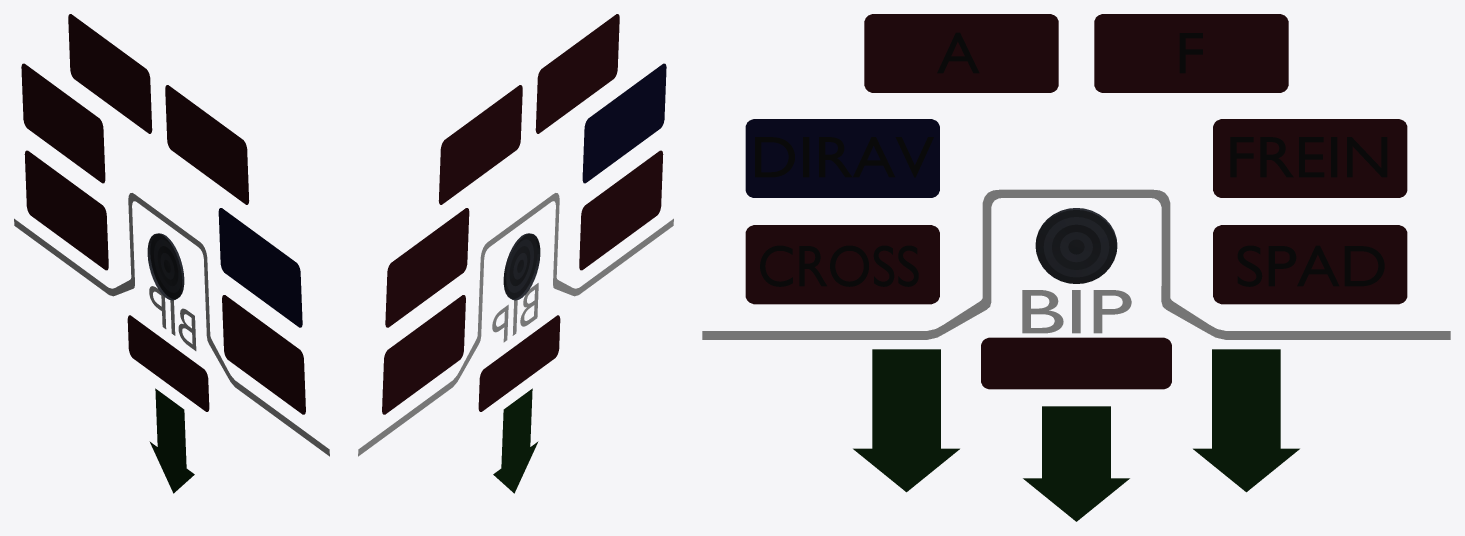
Rendered from gears.fbx.
3 views of the same model, side by side, from view 1: azimuth 30°, elevation 25°; view 2: azimuth 150°, elevation 25°; view 3: azimuth 270°, elevation 25° (orthographic). The views are drawn at different scales.
Visible parts, largest first — view 1: gears.spad, gears.F, gears.frein, gears.dirav, gears.cross, gears.A, gears.texte, gears.bip, gears.nozegear, gears.knob; view 2: gears.cross, gears.A, gears.dirav, gears.frein, gears.spad, gears.F, gears.texte, gears.bip, gears.nozegear, gears.knob; view 3: gears.cross, gears.spad, gears.A, gears.F, gears.dirav, gears.frein, gears.texte, gears.bip, gears.leftgear, gears.rightgear, gears.nozegear, gears.knob.
Boxes of the visible parts, box(x1,y1,x2,y2) form: gears.spad: box(24, 150, 108, 270); gears.F: box(68, 14, 152, 133); gears.frein: box(21, 63, 105, 183); gears.dirav: box(218, 208, 302, 327); gears.cross: box(222, 295, 305, 414); gears.A: box(165, 85, 249, 204); gears.texte: box(14, 193, 329, 456); gears.bip: box(127, 315, 209, 411); gears.nozegear: box(149, 388, 194, 493); gears.knob: box(147, 233, 184, 300); gears.cross: box(579, 150, 663, 270); gears.A: box(535, 14, 619, 133); gears.dirav: box(582, 63, 666, 183); gears.frein: box(385, 208, 469, 327); gears.spad: box(382, 295, 465, 414); gears.F: box(438, 85, 522, 204); gears.texte: box(358, 193, 673, 456); gears.bip: box(478, 315, 560, 411); gears.nozegear: box(493, 388, 538, 493); gears.knob: box(503, 233, 540, 300); gears.cross: box(745, 225, 939, 304); gears.spad: box(1213, 225, 1407, 304); gears.A: box(864, 14, 1058, 92); gears.F: box(1094, 14, 1288, 92); gears.dirav: box(745, 119, 939, 197); gears.frein: box(1213, 119, 1407, 197); gears.texte: box(702, 189, 1450, 339); gears.bip: box(981, 337, 1171, 389); gears.leftgear: box(853, 349, 959, 492); gears.rightgear: box(1193, 349, 1299, 492); gears.nozegear: box(1023, 406, 1129, 521); gears.knob: box(1035, 208, 1117, 283).
Bounding box in the file's own units: 0.0886 × 3.01 × 2.21.
